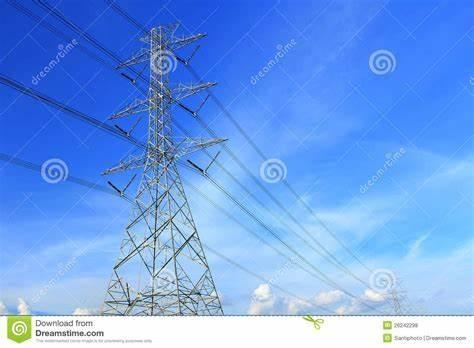power_tower: (104, 22, 230, 318)
